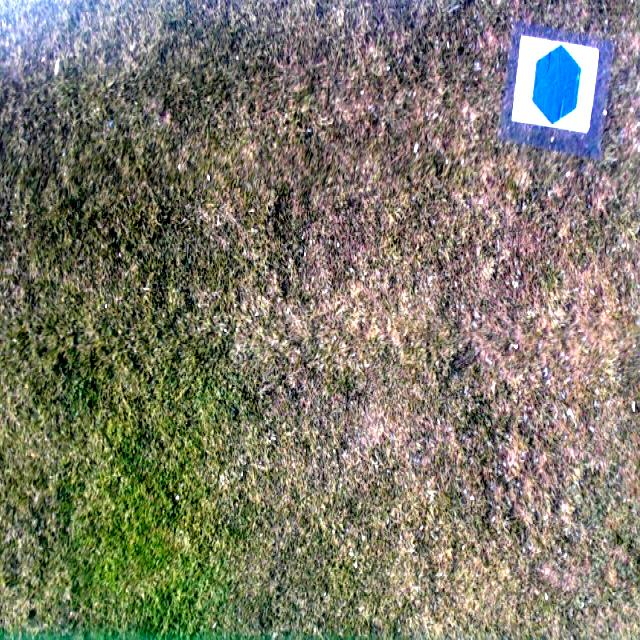blue_hexagon: (534, 46, 580, 129)
